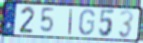2: (18, 6, 35, 35)
3: (117, 9, 136, 40)
5: (98, 9, 116, 39), (39, 7, 54, 35)
G: (78, 9, 97, 37)
I: (67, 8, 74, 35)
